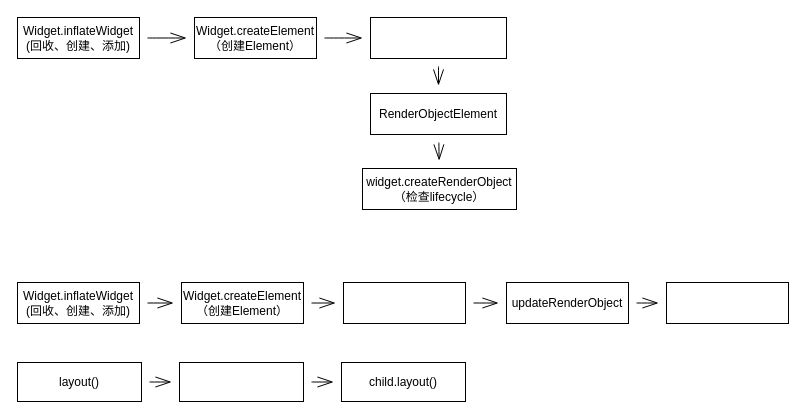
Some shapes in this 806 by 419 pixel diagram are drawn without their labels. Here are the shapes that lost their labels. From the top down, the box of each, then its label:
(370, 16, 506, 58): Element.mount （添加Element到树上）
(342, 282, 466, 324): Element.updateChild （更新儿子）
(666, 282, 788, 324): markNeedsLayout (size改变时调用)
(178, 362, 304, 402): performLayout()
